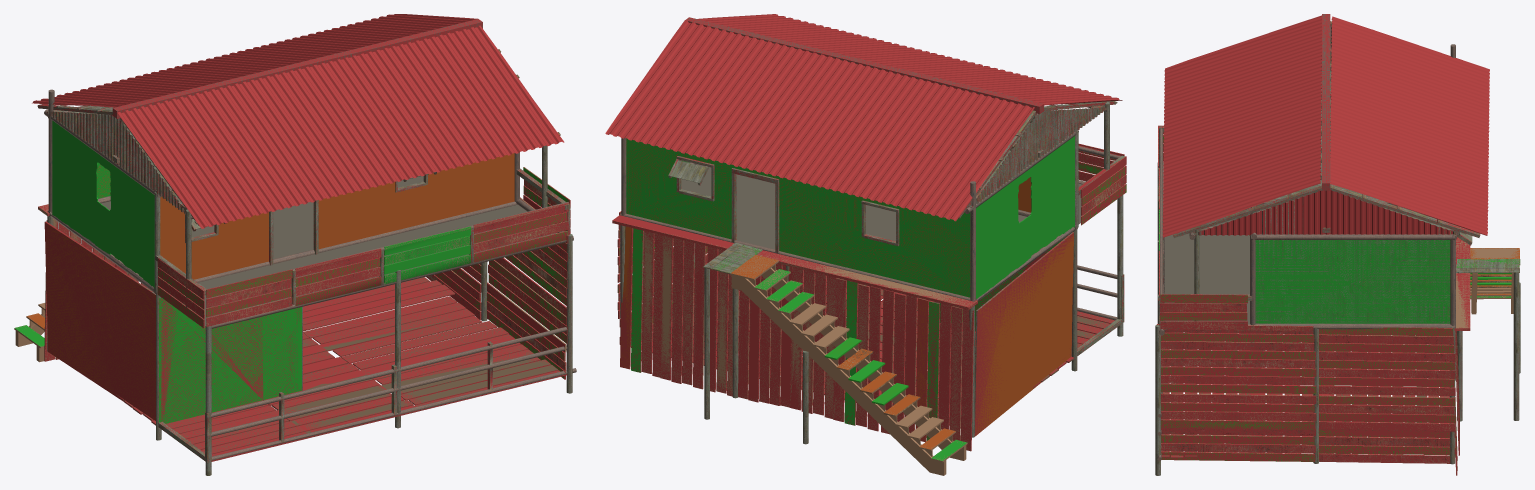
File: resident 2.fbx
The picture shows the model from 3 angles, left to right: view 1: azimuth 30°, elevation 25°; view 2: azimuth 150°, elevation 25°; view 3: azimuth 270°, elevation 25°; orthographic projection. The views are drawn at different scales.
Parts seen in each view (by area): view 1: Group1; view 2: Group1; view 3: Group1.
Boxes of the visible parts, bbox=[...] form: Group1: bbox=[14, 14, 576, 475]; Group1: bbox=[605, 14, 1126, 475]; Group1: bbox=[1155, 14, 1520, 475].
Size of the model in its own units: 523 by 412 by 465.
